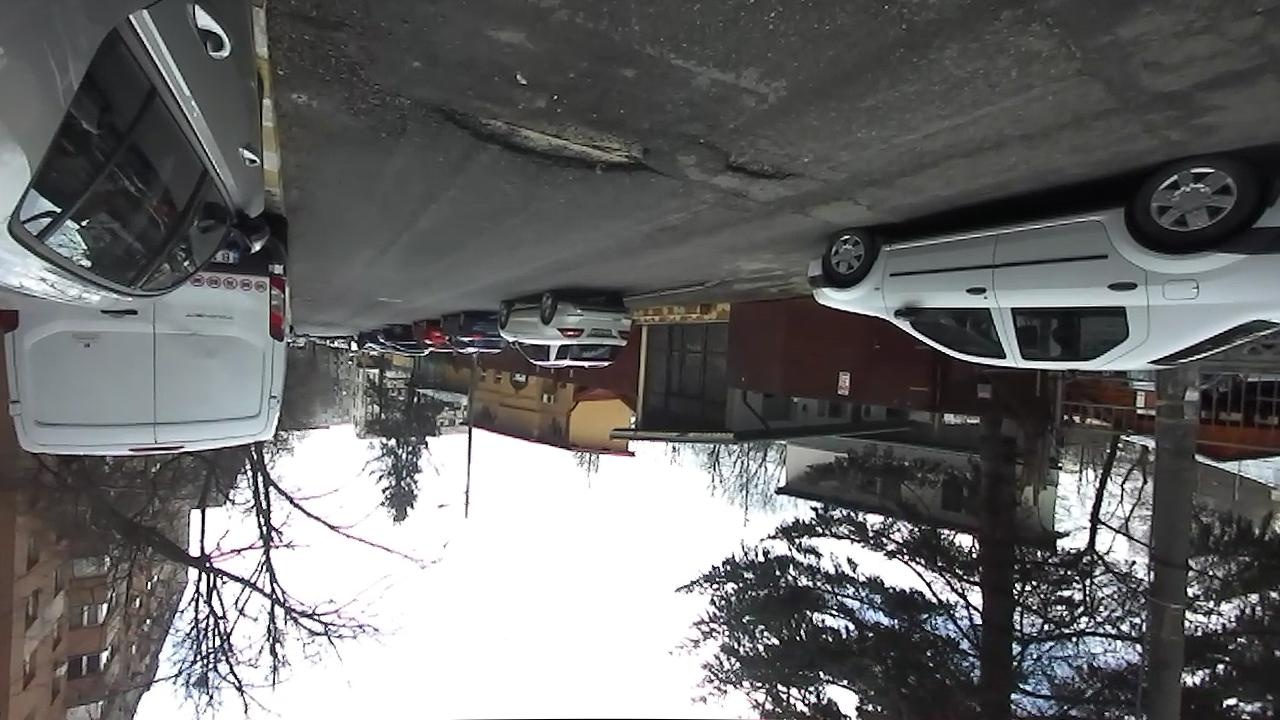pothole: (422, 94, 664, 179), (708, 142, 808, 183)
